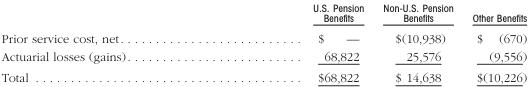table: (0, 0, 526, 84)
table column: (0, 0, 221, 84), (221, 0, 372, 84), (372, 0, 462, 84), (462, 0, 526, 84)
table column header: (0, 0, 526, 27)
table row: (0, 0, 526, 27), (0, 27, 526, 47), (0, 47, 526, 66), (0, 66, 526, 84)
